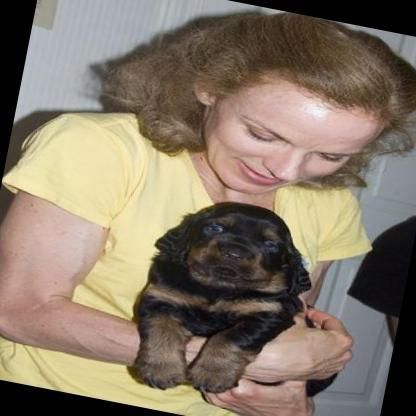Gordon_setter: (117, 185, 368, 416)
